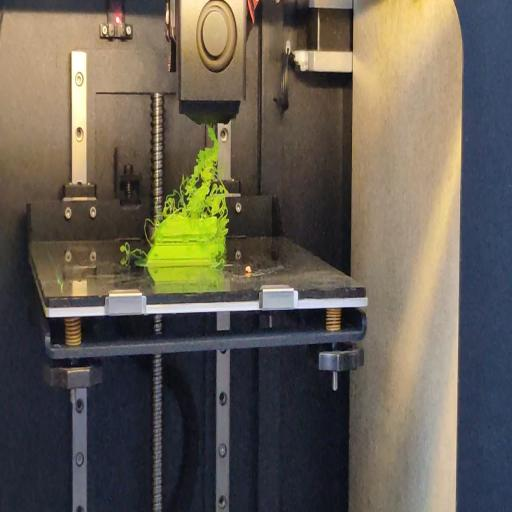spaghetti: (152, 128, 232, 221), (219, 220, 230, 266), (119, 244, 148, 260), (143, 216, 152, 246)
